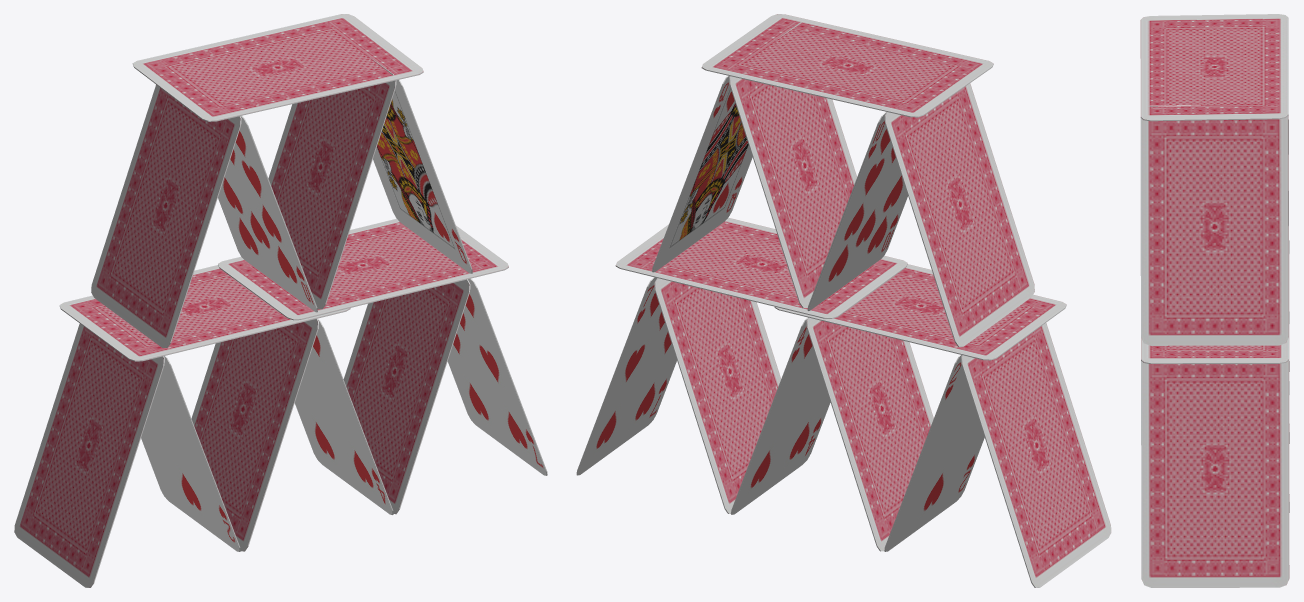
File: cards.gltf
3 views of the same model, side by side, from view 1: azimuth 30°, elevation 25°; view 2: azimuth 150°, elevation 25°; view 3: azimuth 270°, elevation 25° (orthographic). The views are drawn at different scales.
Parts seen in each view (by area): view 1: Mesh_0, Mesh_8, Mesh_12, Mesh_5, Mesh_2, Mesh_10, Mesh_7, Mesh_4, Mesh_6, Mesh_11, Mesh_1, Mesh_9 (+1 smaller); view 2: Mesh_8, Mesh_0, Mesh_12, Mesh_10, Mesh_5, Mesh_2, Mesh_7, Mesh_4, Mesh_6, Mesh_11, Mesh_1, Mesh_9 (+1 smaller); view 3: Mesh_11, Mesh_6, Mesh_12, Mesh_7.
Part boxes in pixels (bbox=[...]): Mesh_0: bbox=[14, 323, 164, 587]; Mesh_8: bbox=[91, 84, 241, 347]; Mesh_12: bbox=[132, 14, 423, 121]; Mesh_5: bbox=[343, 279, 470, 514]; Mesh_2: bbox=[191, 319, 318, 551]; Mesh_10: bbox=[268, 56, 396, 309]; Mesh_7: bbox=[218, 218, 508, 320]; Mesh_4: bbox=[59, 265, 350, 361]; Mesh_6: bbox=[447, 278, 547, 475]; Mesh_11: bbox=[373, 79, 472, 273]; Mesh_1: bbox=[141, 356, 240, 551]; Mesh_9: bbox=[218, 116, 317, 312]; Mesh_8: bbox=[884, 83, 1034, 346]; Mesh_0: bbox=[961, 323, 1111, 587]; Mesh_12: bbox=[701, 14, 993, 117]; Mesh_10: bbox=[729, 22, 856, 308]; Mesh_5: bbox=[654, 278, 780, 513]; Mesh_2: bbox=[806, 317, 933, 551]; Mesh_7: bbox=[615, 217, 907, 318]; Mesh_4: bbox=[774, 264, 1066, 360]; Mesh_6: bbox=[576, 277, 676, 475]; Mesh_11: bbox=[652, 75, 752, 272]; Mesh_1: bbox=[884, 354, 984, 551]; Mesh_9: bbox=[807, 111, 907, 310]; Mesh_11: bbox=[1140, 115, 1288, 345]; Mesh_6: bbox=[1141, 360, 1289, 587]; Mesh_12: bbox=[1140, 14, 1288, 121]; Mesh_7: bbox=[1141, 337, 1288, 363].
Size of the model in its own units: 5.91 by 5.47 by 1.76.
1 material, 1 textured.
